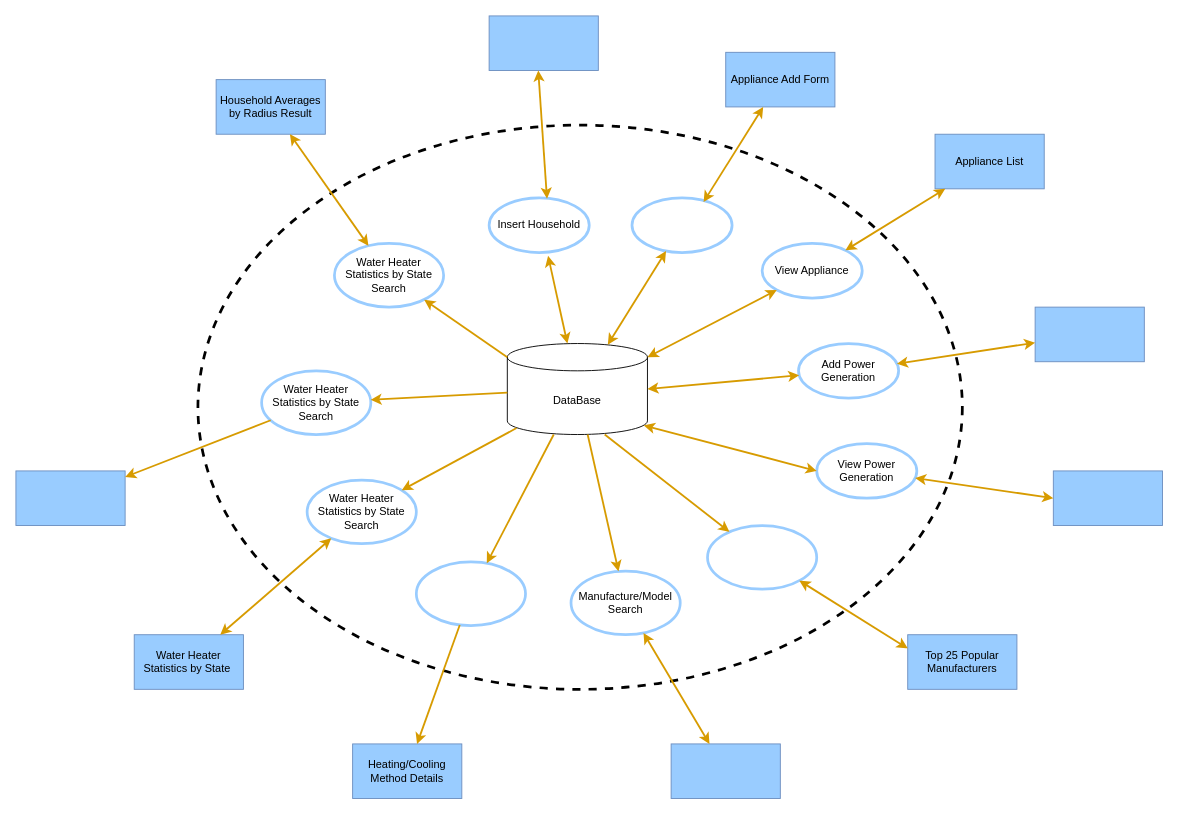
This 1178x814 diagram has some shape labels left out. The box of each missing label's shape, as (x1, y1, x2, y2) in pixels:
Add Appliance: (630, 196, 733, 253)
Heating/Cooling Methods Search: (415, 560, 526, 627)
Household Info Enter Form: (488, 15, 598, 71)
List Top 25 Popular Manufacturers: (706, 524, 818, 590)
Manufacture/Model Search and Results: (670, 743, 780, 799)
Off-the-Grid Household Dashboard: (15, 470, 125, 526)
Power Generation Add Form: (1034, 306, 1144, 362)
Power Generation List: (1052, 470, 1163, 526)
